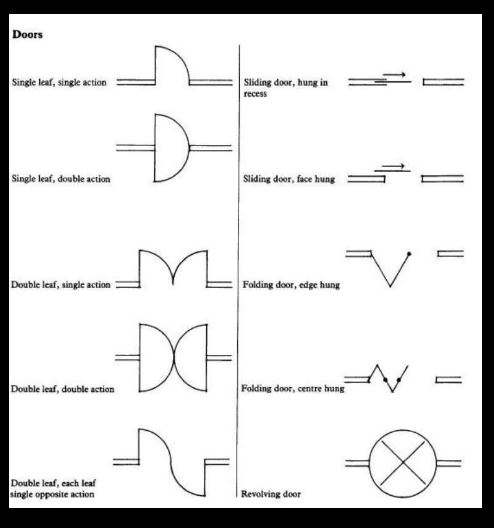door: (137, 414, 208, 500), (137, 318, 209, 399), (368, 417, 437, 499), (137, 237, 209, 290), (152, 105, 191, 191), (370, 353, 412, 405), (372, 245, 413, 295), (152, 39, 192, 79)
